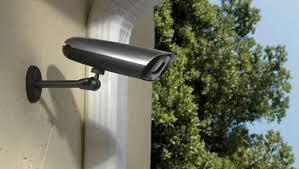tutu: (59, 31, 175, 86)
